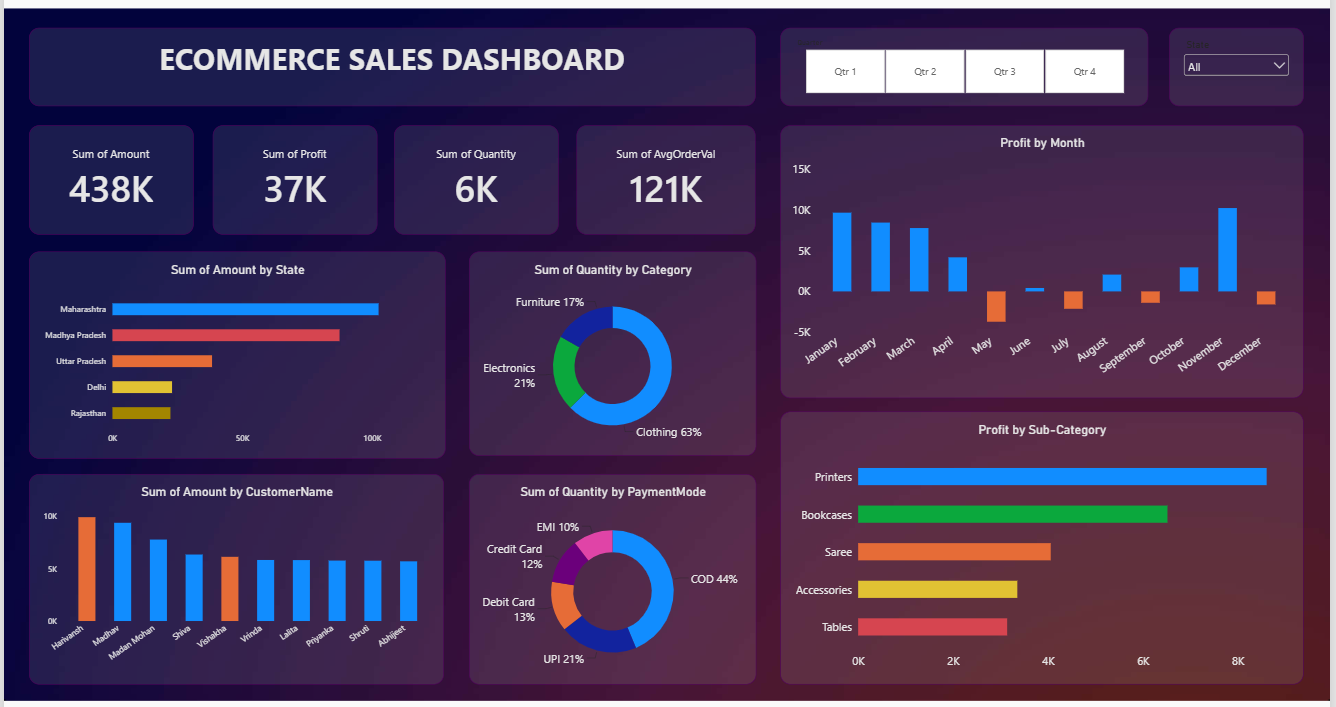

What the dashboard file says about the page in this screenshot:
{"tool":"powerbi","page":{"name":"Page 1","canvas":[1920,1080],"ordinal":0},"visuals":[{"type":"columnChart","title":"Profit by Month","fields":{"Category":["Orders.Order Date.Variation.Date Hierarchy.Month"],"Y":["Sum(Details.Profit)"]},"box":[1123.8,203.8,757.5,395.2],"z":0},{"type":"barChart","title":"Profit by Sub-Category","fields":{"Category":["Details.Sub-Category"],"Y":["Sum(Details.Profit)"]},"box":[1123.8,619.6,757.5,395.2],"z":1000},{"type":"donutChart","fields":{"Category":["Details.Category"],"Y":["Sum(Details.Quantity)"]},"box":[673.1,387,415.8,296.4],"z":2000},{"type":"donutChart","fields":{"Category":["Details.PaymentMode"],"Y":["Sum(Details.Quantity)"]},"box":[673.1,710.1,415.8,304.6],"z":3000},{"type":"cardVisual","fields":{"Data":["Sum(Details.Amount)"]},"box":[37,203.8,238.8,158.5],"z":4000},{"type":"cardVisual","fields":{"Data":["Sum(Details.Profit)"]},"box":[302.6,203.8,238.8,158.5],"z":5000},{"type":"cardVisual","fields":{"Data":["Sum(Details.Quantity)"]},"box":[564,203.8,238.8,158.5],"z":6000},{"type":"cardVisual","fields":{"Data":["Sum(Details.AvgOrderVal)"]},"box":[829.5,203.8,259.3,158.5],"z":7000},{"type":"barChart","title":"Sum of Amount by State","fields":{"Category":["Orders.State"],"Y":["Sum(Details.Amount)"]},"box":[37,387,603.1,300],"z":8000},{"type":"columnChart","fields":{"Category":["Orders.CustomerName"],"Y":["Sum(Details.Amount)"]},"box":[37,710.1,601,304.6],"z":9000},{"type":"slicer","fields":{"Values":["Orders.Order Date.Variation.Date Hierarchy.Quarter"]},"box":[1123.8,63.8,533.1,113.2],"z":10000},{"type":"slicer","fields":{"Values":["Orders.State"]},"box":[1685.8,63.8,195.5,113.2],"z":11000},{"type":"textbox","box":[37,63.8,1051.8,113.2],"z":12000}]}

Visuals, with their boxes on the page's 1920x1080 design canvas (x1, y1, x2, y2). These are canvas units, not pixel positions in the 1336x707 screenshot, which may show the page scaled, cropped or inside an application window:
"Profit by Month" columnChart: 1124/204/1881/599
"Profit by Sub-Category" barChart: 1124/620/1881/1015
donutChart - Details.Category x Sum(Details.Quantity): 673/387/1089/683
donutChart - Details.PaymentMode x Sum(Details.Quantity): 673/710/1089/1015
cardVisual - Sum(Details.Amount): 37/204/276/362
cardVisual - Sum(Details.Profit): 303/204/541/362
cardVisual - Sum(Details.Quantity): 564/204/803/362
cardVisual - Sum(Details.AvgOrderVal): 830/204/1089/362
"Sum of Amount by State" barChart: 37/387/640/687
columnChart - Orders.CustomerName x Sum(Details.Amount): 37/710/638/1015
slicer - Orders.Order Date.Variation.Date Hierarchy.Quarter: 1124/64/1657/177
slicer - Orders.State: 1686/64/1881/177
textbox: 37/64/1089/177
